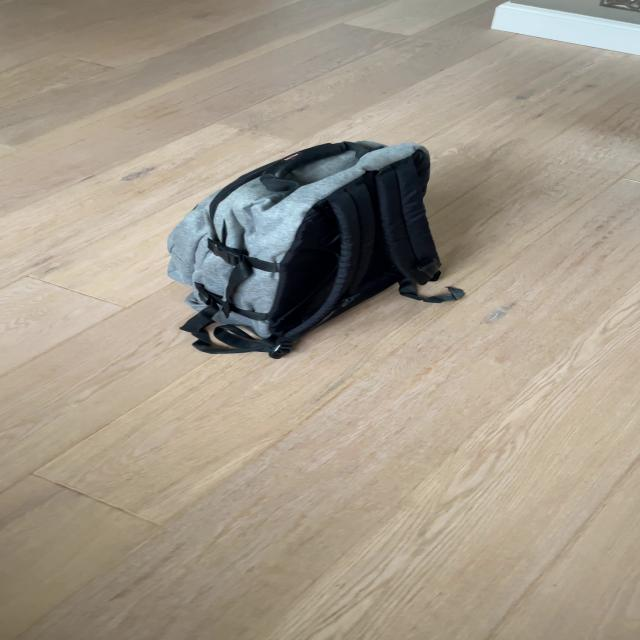backpack: (150, 128, 450, 362)
